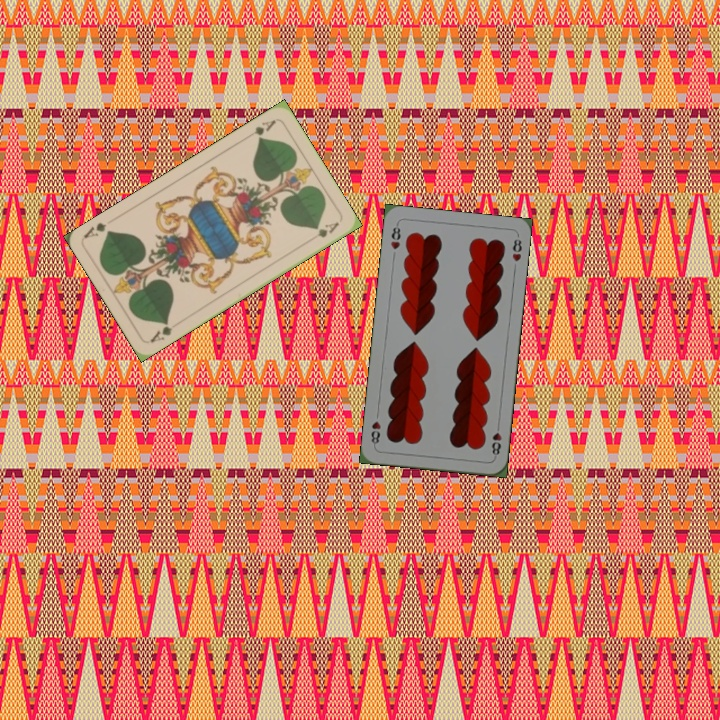GA: (146, 318, 175, 345), (250, 116, 278, 142)
H8: (488, 420, 504, 460), (387, 220, 403, 252)
